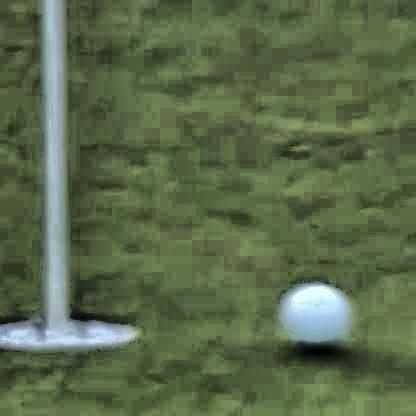golfball: (278, 280, 349, 350)
